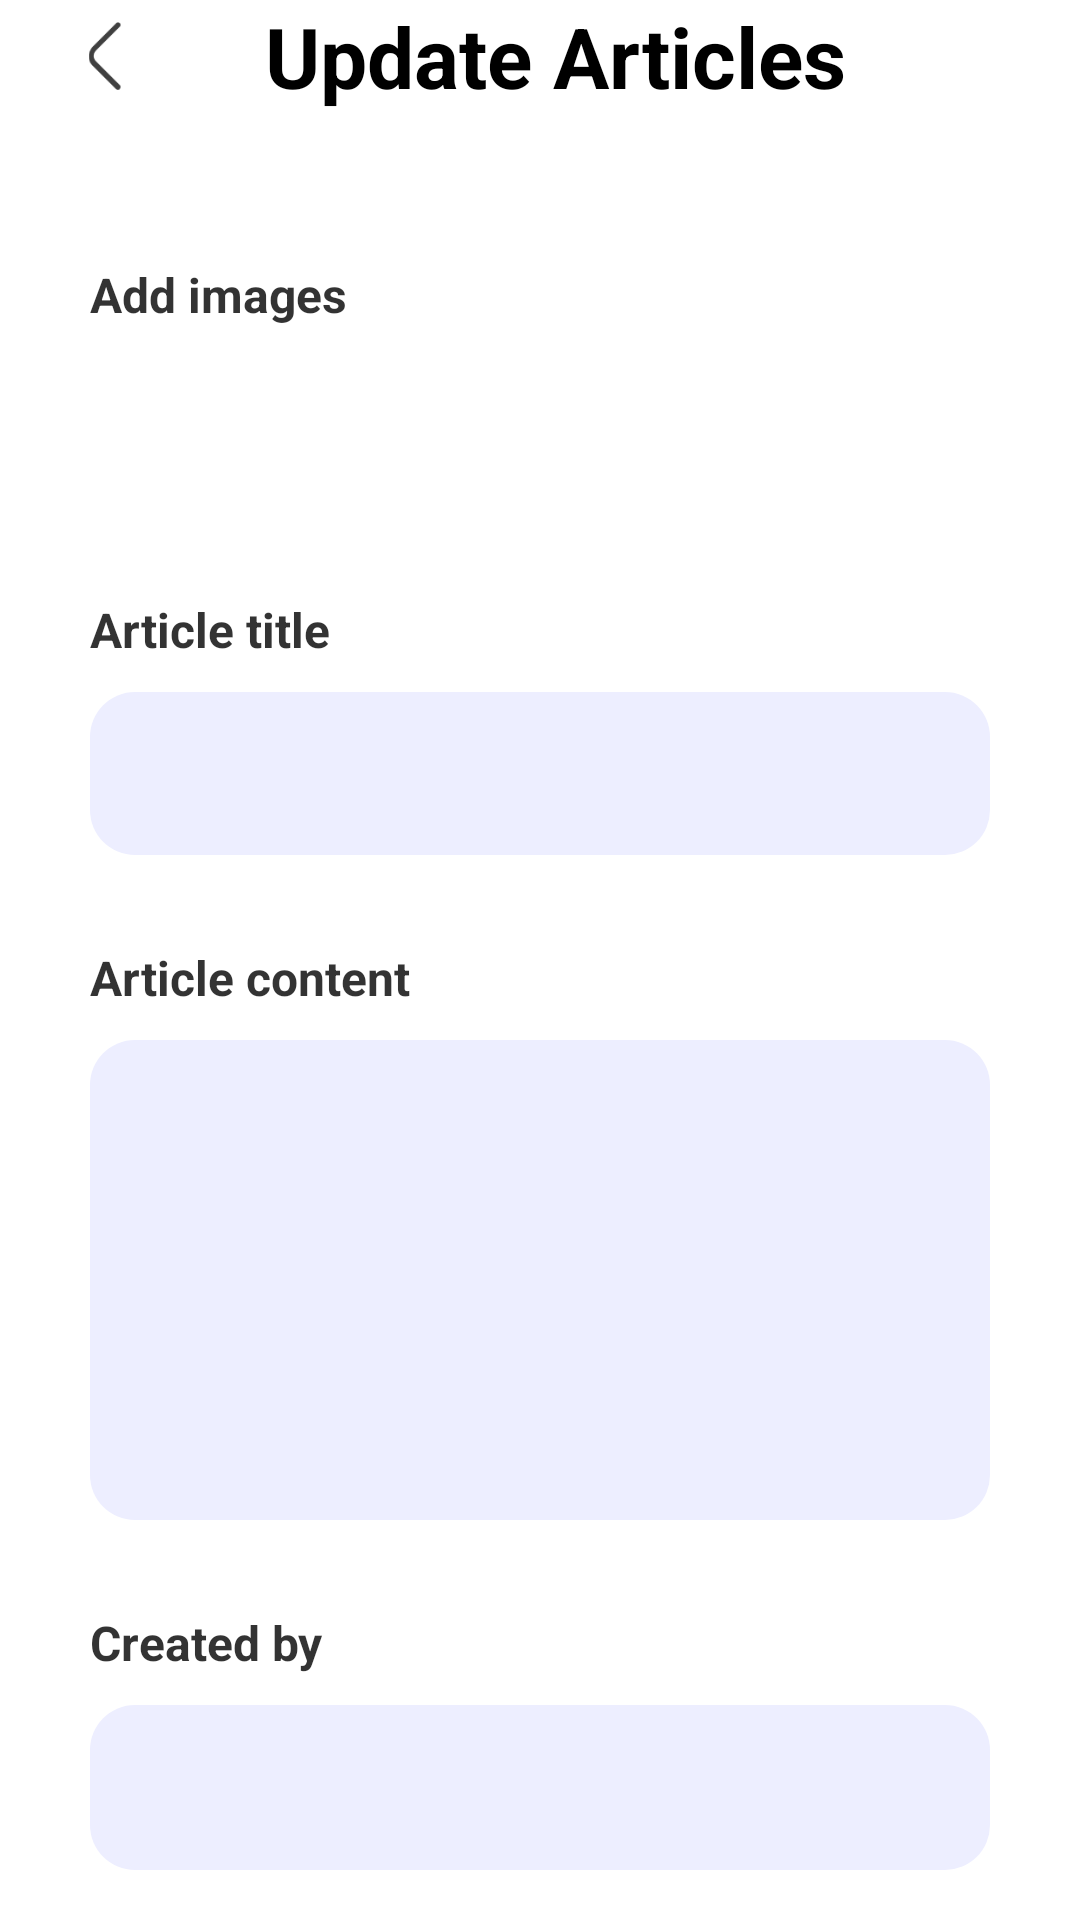

Point at icon controls on the screen. Image size 1080px x 1920px, points as (x,y).
back: (105,56)
